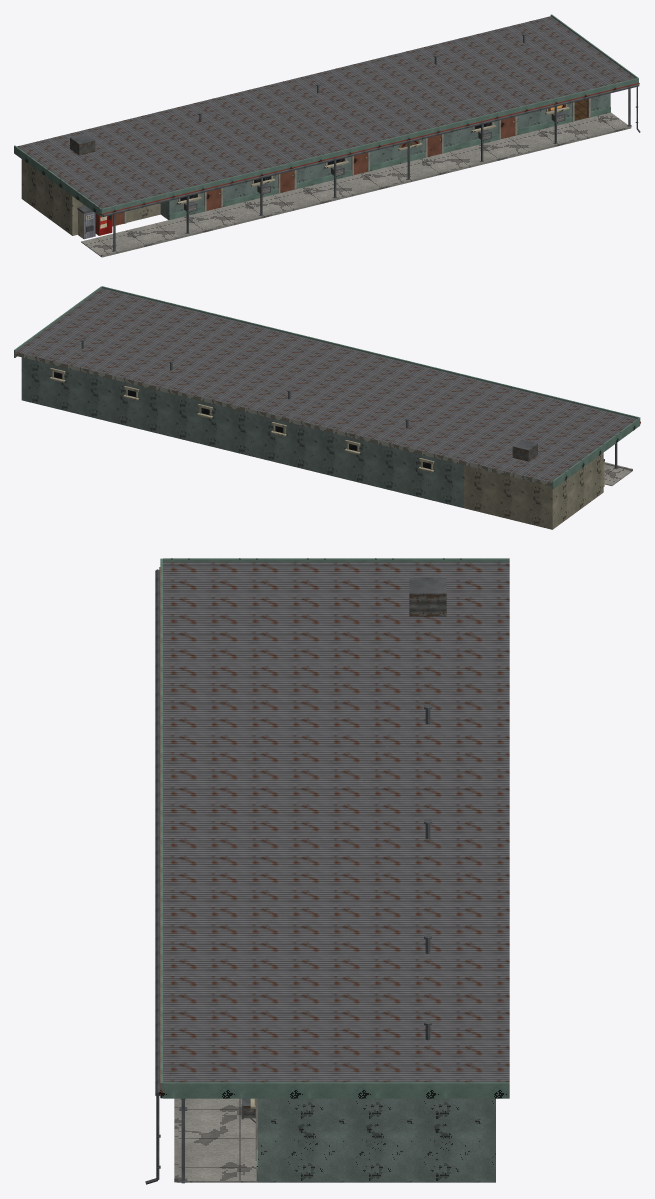
The model's file is motel.glb.
The picture shows the model from 3 angles, top to bottom: view 1: azimuth 30°, elevation 25°; view 2: azimuth 150°, elevation 25°; view 3: azimuth 270°, elevation 25°; orthographic projection. The views are drawn at different scales.
Parts seen in each view (by area): view 1: detail, shell-col, props-col; view 2: detail, shell-col; view 3: detail, shell-col.
Part boxes in pixels (<box>): detail: <box>14,14,640,257</box>; shell-col: <box>21,93,627,256</box>; props-col: <box>113,88,630,251</box>; detail: <box>14,286,640,489</box>; shell-col: <box>21,357,632,529</box>; detail: <box>145,558,509,1184</box>; shell-col: <box>176,1098,495,1182</box>.
Size of what is drawn, in the model's own units: 36.56 by 4.01 by 10.71.
Materials: 52 (52 with a texture image).
